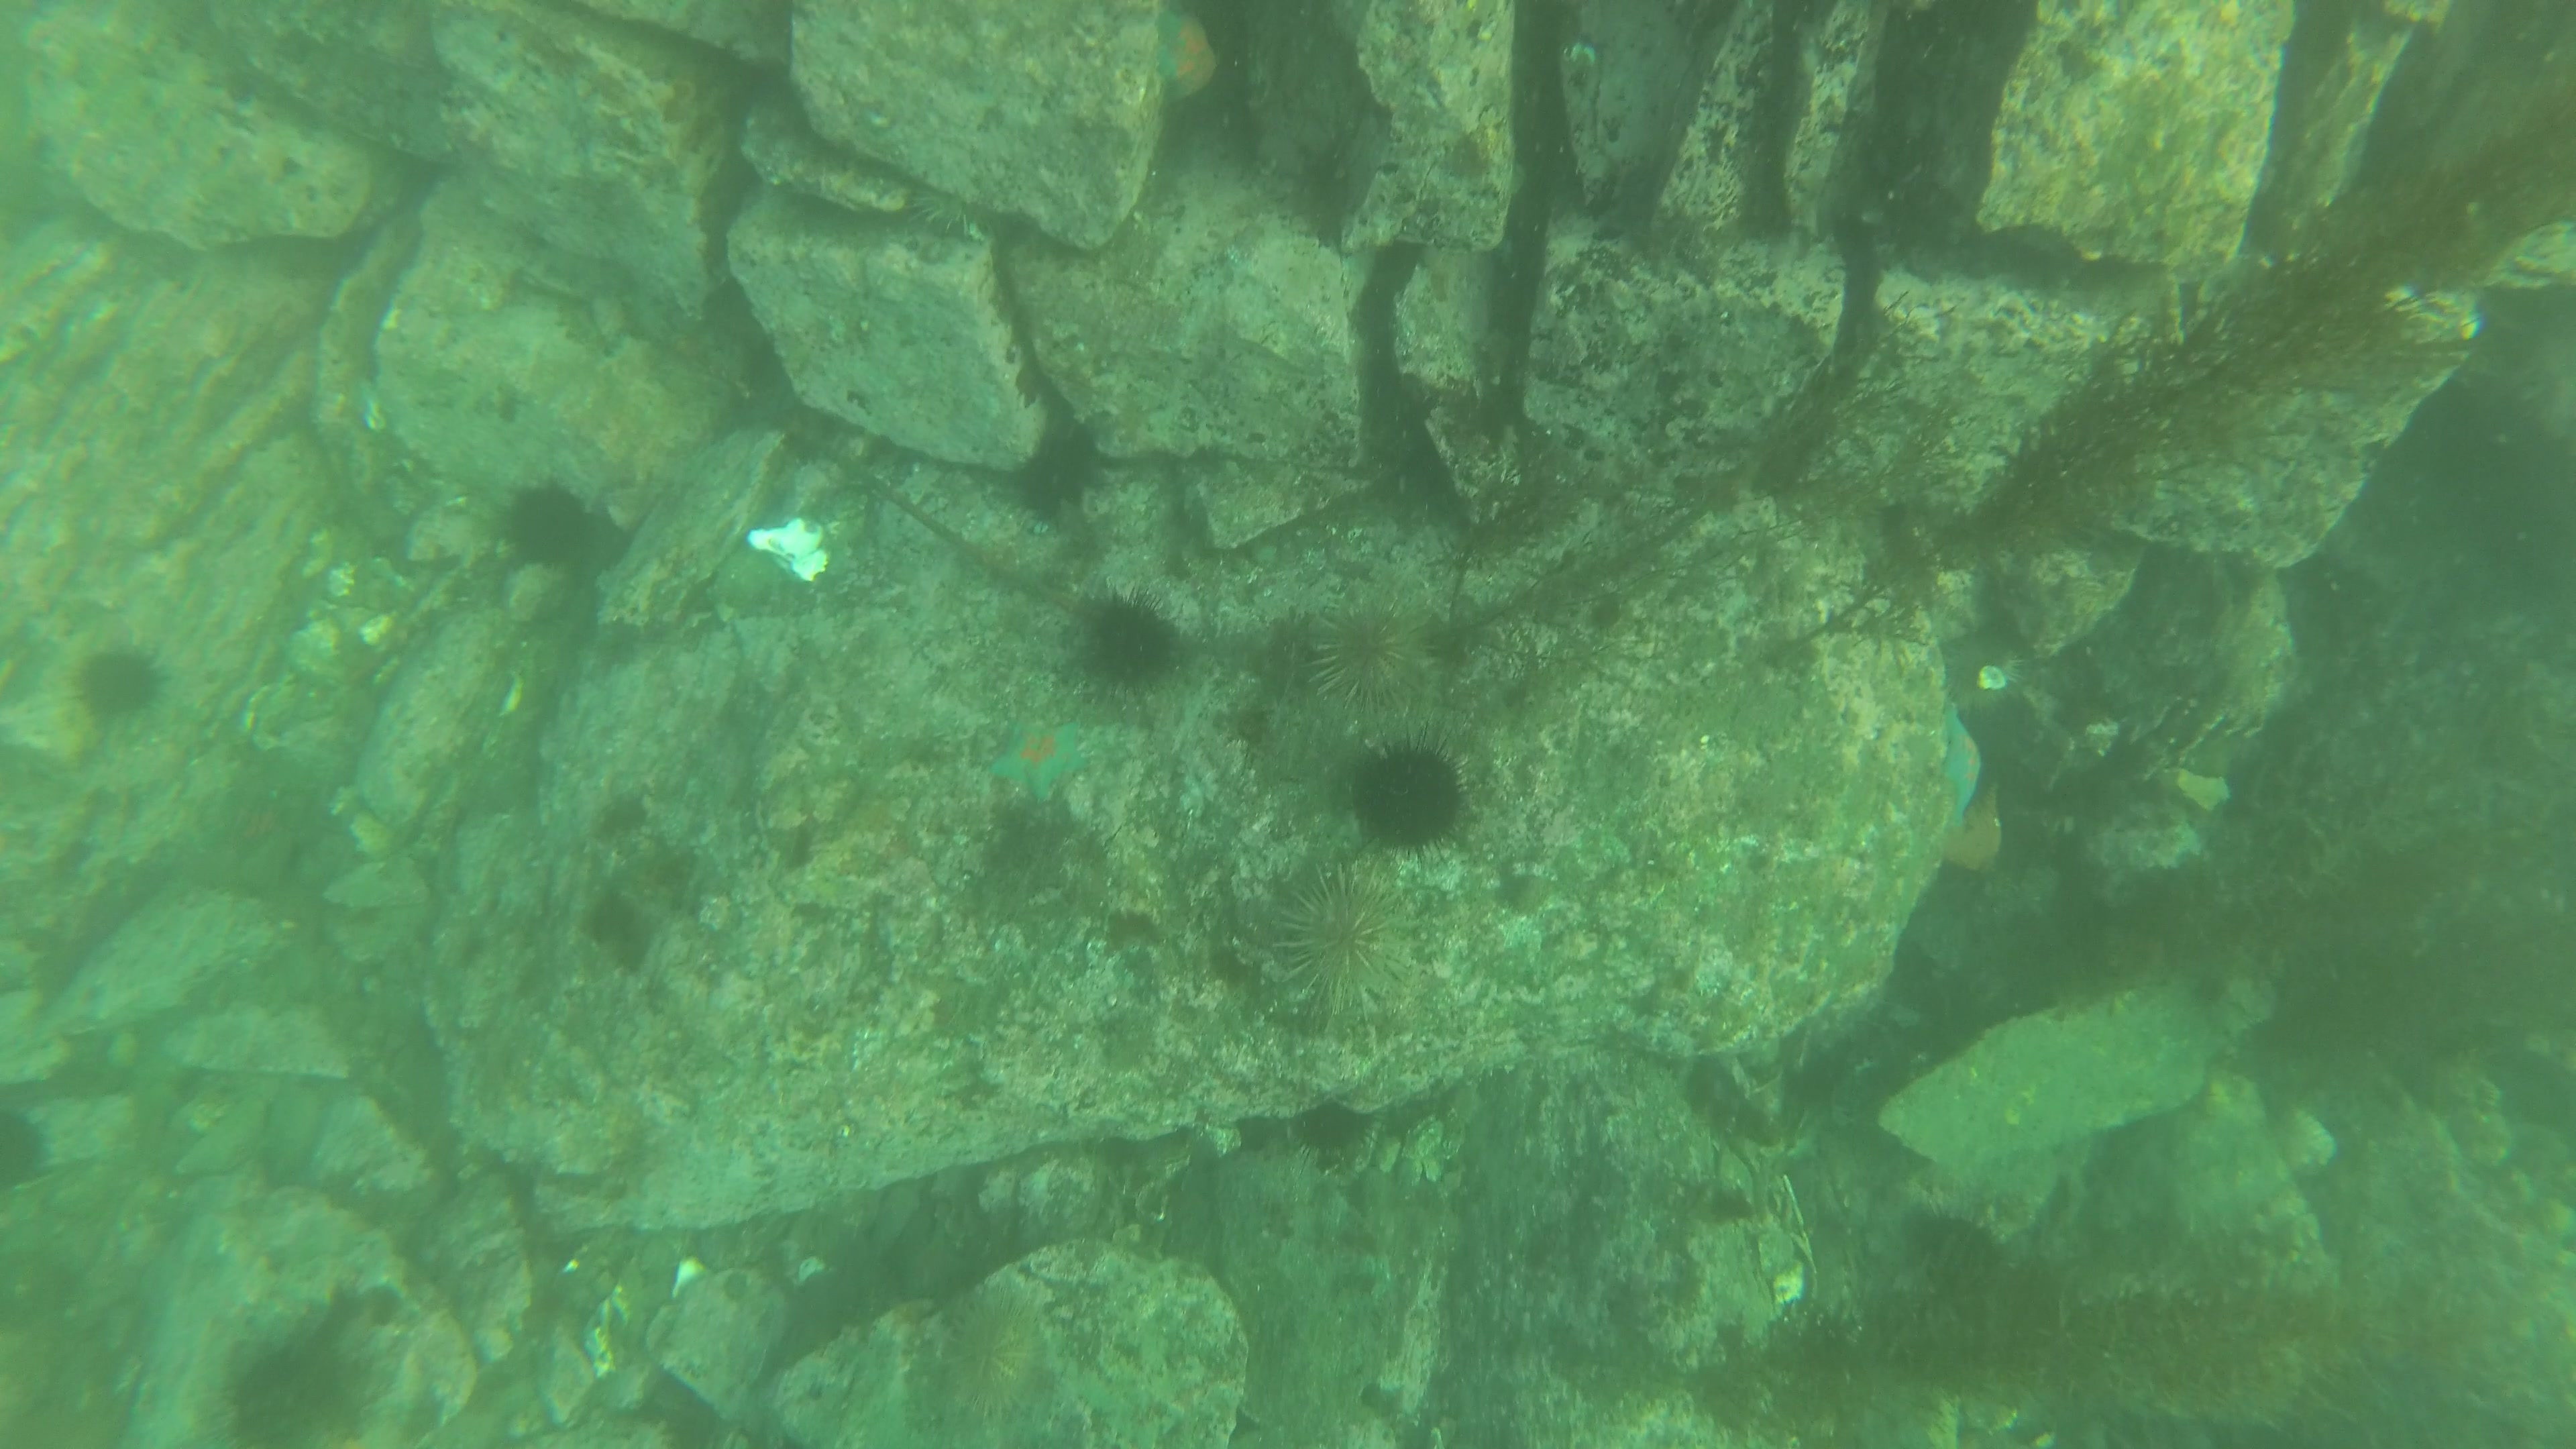echinus: (1281, 846, 1438, 1024), (1304, 570, 1445, 725), (1336, 725, 1483, 867), (218, 1323, 370, 1449), (1065, 575, 1198, 706), (494, 476, 600, 577), (1005, 428, 1111, 527), (71, 642, 166, 736), (1286, 1099, 1385, 1171), (899, 173, 994, 242), (0, 1102, 58, 1201)
starfish: (985, 706, 1099, 816), (1930, 694, 1992, 826), (1150, 5, 1224, 110)
